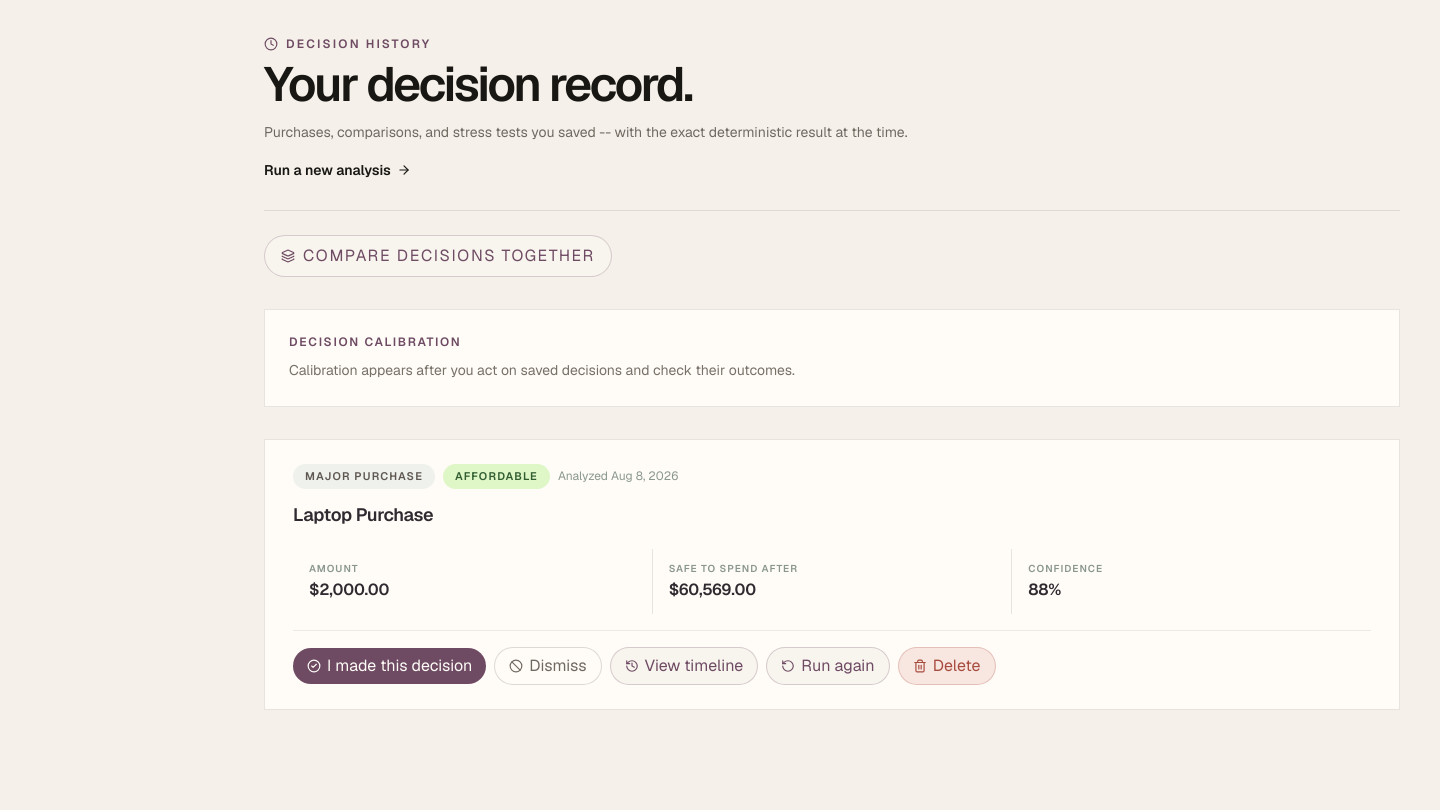
Test: Decision history page › deletes a saved decision
Expected: the heading "Laptop Purchase" is shown, x1=293 y1=502 x2=433 y2=526
Click the button "Delete". click: (947, 666)
box: x1=898 y1=646 x2=996 y2=684
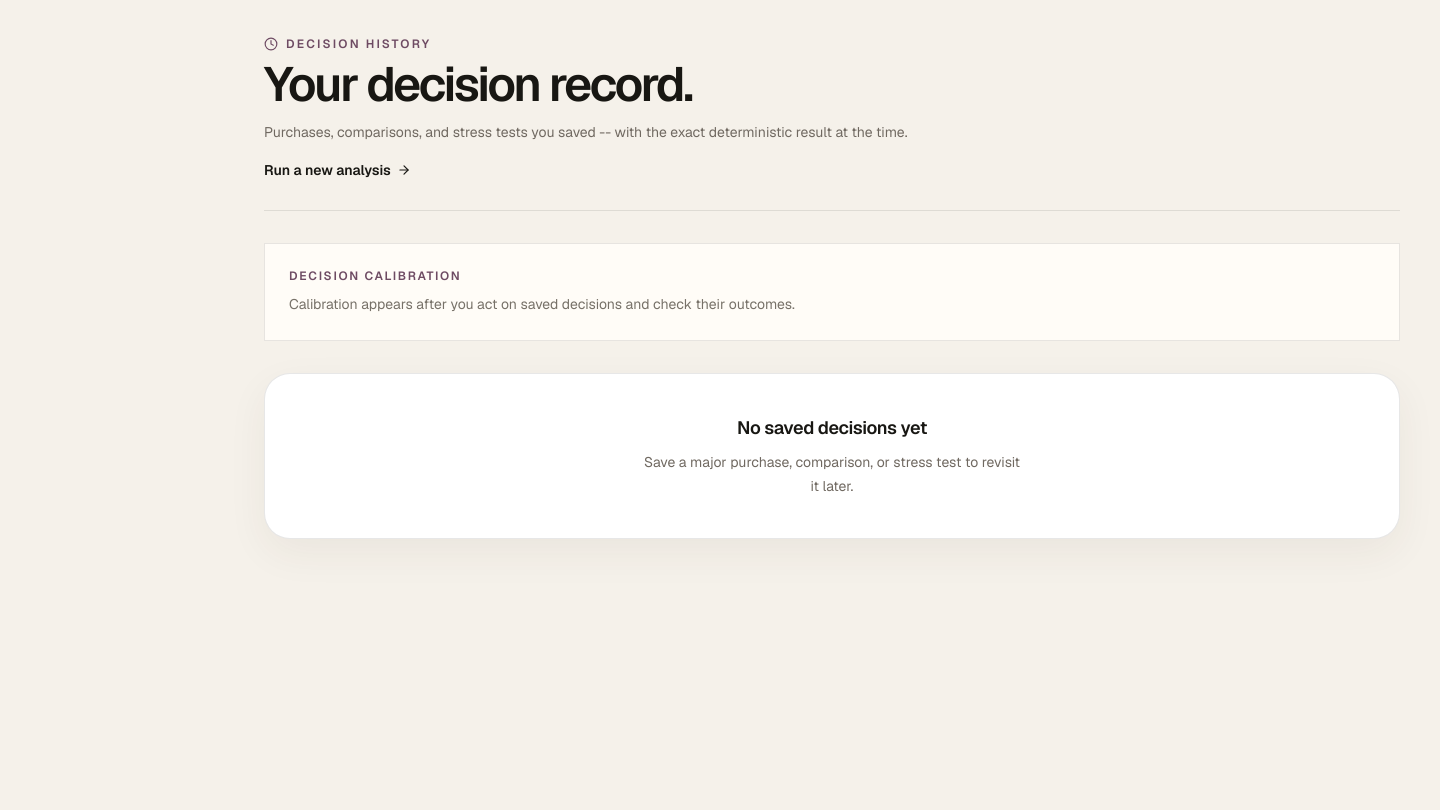
Expected: the heading "Laptop Purchase" is gone
